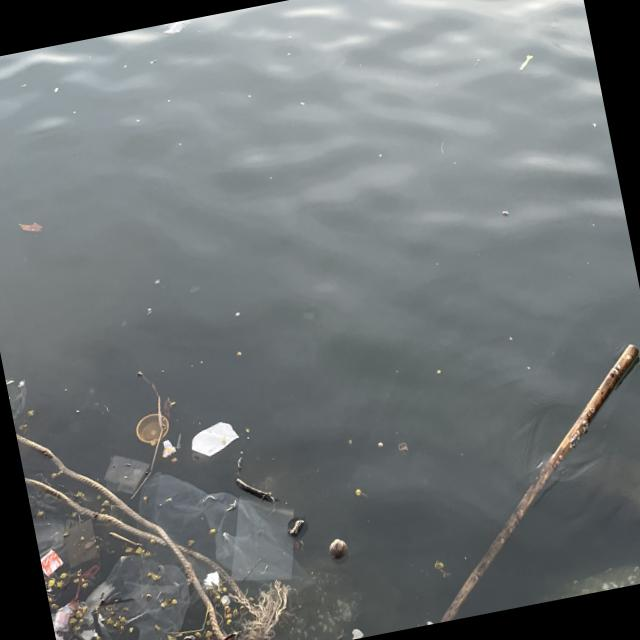foam: (188, 420, 242, 461), (203, 571, 222, 591), (349, 627, 366, 640)
